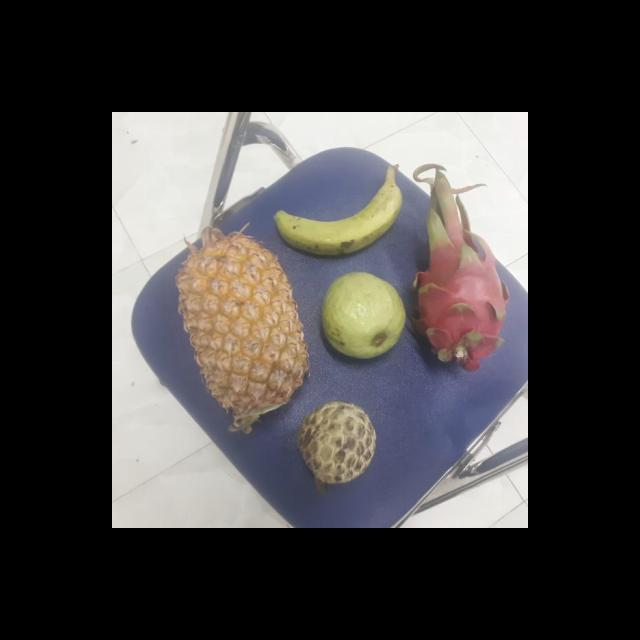Sakya fruit: (294, 400, 376, 484)
banana: (272, 176, 397, 256)
guava: (316, 274, 406, 359)
pineapple: (170, 234, 307, 424)
pitaya: (406, 227, 506, 366)
